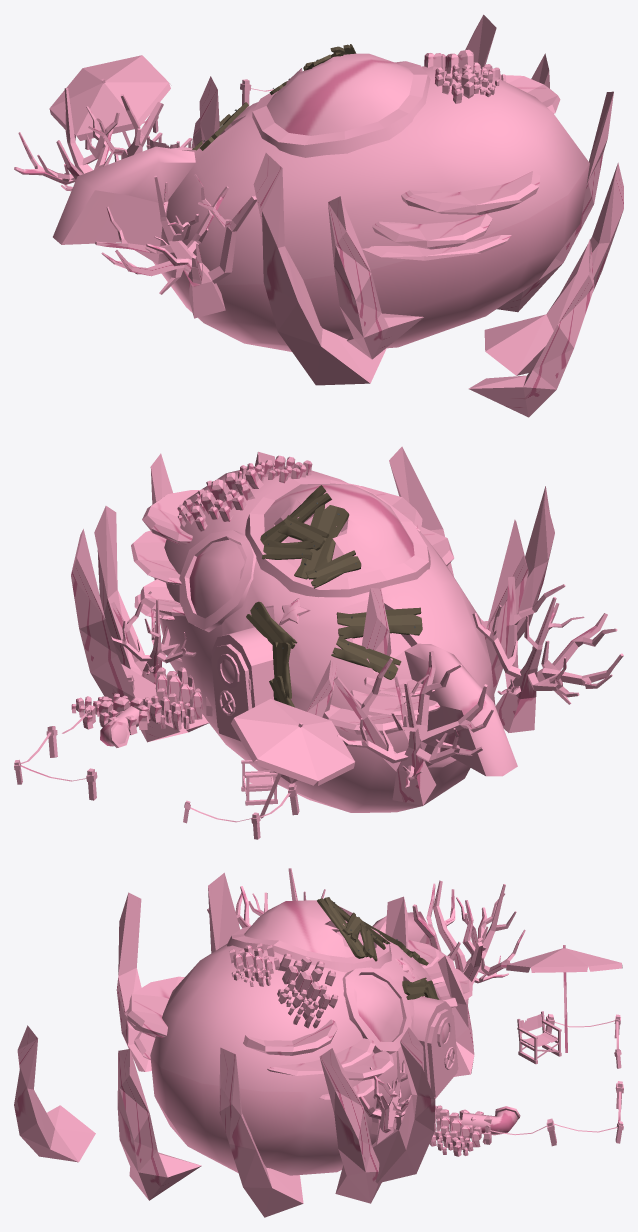
The model's file is HomeBase_World.fbx.
The picture shows the model from 3 angles, top to bottom: view 1: azimuth 30°, elevation 25°; view 2: azimuth 150°, elevation 25°; view 3: azimuth 270°, elevation 25°; orthographic projection. The views are drawn at different scales.
Visible parts, largest first — view 1: Submarine, Rib, Bushes, Rocks, Decoration, SmallCoral, Hout; view 2: Submarine, Rib, Bushes, Hout, Decoration, Rocks, SmallCoral, Door; view 3: Submarine, Rib, Rocks, Bushes, SmallCoral, Decoration, Hout, Door.
Part boxes in pixels (<box>): Submarine: <box>53,53,589,351</box>; Rib: <box>191,14,623,417</box>; Bushes: <box>14,88,256,318</box>; Rocks: <box>171,75,560,260</box>; Decoration: <box>49,55,273,159</box>; SmallCoral: <box>424,49,506,103</box>; Hout: <box>192,44,356,150</box>; Submarine: <box>100,470,517,812</box>; Rib: <box>71,446,554,783</box>; Bushes: <box>111,576,623,805</box>; Hout: <box>246,485,422,707</box>; Decoration: <box>14,675,354,839</box>; Rocks: <box>131,486,454,735</box>; SmallCoral: <box>71,455,312,735</box>; Door: <box>211,644,252,734</box>; Submarine: <box>150,900,520,1175</box>; Rib: <box>14,872,474,1217</box>; Rocks: <box>124,940,472,1099</box>; Bushes: <box>207,868,525,1144</box>; SmallCoral: <box>229,943,492,1156</box>; Decoration: <box>482,945,623,1146</box>; Hout: <box>317,897,439,999</box>; Door: <box>427,1009,458,1097</box>.
Bounding box in the file's own units: 35.56 × 20.92 × 42.93.
4 materials, 1 textured.
